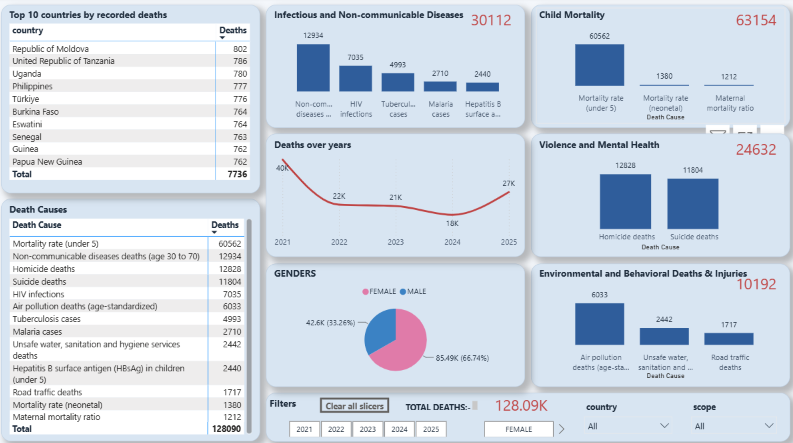

What the dashboard file says about the page in this screenshot:
{"tool":"powerbi","page":{"name":"HOME","canvas":[1280,720],"ordinal":0},"visuals":[{"type":"shape","box":[12,322,412,386],"z":0},{"type":"pivotTable","title":"Death Causes","fields":{"Rows":["A-B-C-D.Death Cause"],"Values":["CountNonNull(A-B-C-D.Death Cause)"]},"box":[20.7,327.7,396.1,373.8],"z":1000},{"type":"shape","box":[12,12,412,300],"z":2000},{"type":"pivotTable","title":"Top 10 countries by recorded deaths","fields":{"Rows":["A-B-C-D.country"],"Values":["CountNonNull(A-B-C-D.Death Cause)"]},"box":[20,18,396,288],"z":3000},{"type":"shape","box":[856,12,412,196],"z":4000},{"type":"clusteredColumnChart","title":"Child Mortality","fields":{"Category":["A-B-C-D.Death Cause"],"Y":["CountNonNull(A-B-C-D.Death Cause)"]},"box":[864,18,396,184],"z":5000},{"type":"shape","box":[856,218,412,196],"z":6000},{"type":"shape","box":[856,424,412,196],"z":7000},{"type":"clusteredColumnChart","title":"Violence and Mental Health","fields":{"Category":["A-B-C-D.Death Cause"],"Y":["CountNonNull(A-B-C-D.Death Cause)"]},"box":[864,224,396,184],"z":8000},{"type":"clusteredColumnChart","title":"Environmental and Behavioral Deaths & Injuries","fields":{"Category":["A-B-C-D.Death Cause"],"Y":["CountNonNull(A-B-C-D.Death Cause)"]},"box":[864,430,396,184],"z":9000},{"type":"shape","box":[434,12,412,196],"z":10000},{"type":"clusteredColumnChart","title":"Infectious and Non-communicable Diseases","fields":{"Category":["A-B-C-D.Death Cause"],"Y":["CountNonNull(A-B-C-D.Death Cause)"]},"box":[442,18,396,184],"z":11000},{"type":"shape","title":"Filters","box":[434,630,834,78],"z":12000},{"type":"slicer","fields":{"Values":["A-B-C-D.Gender"]},"box":[756,668,160,32],"z":13000},{"type":"slicer","fields":{"Values":["A-B-C-D.country"]},"box":[930,638,160,62],"z":14000},{"type":"slicer","fields":{"Values":["A-B-C-D.scope"]},"box":[1100,638,156,62],"z":15000},{"type":"actionButton","box":[520,638,110,24],"z":16000},{"type":"shape","box":[434,424,412,196],"z":17000},{"type":"pieChart","title":"GENDERS","fields":{"Category":["A-B-C-D.Gender"],"Y":["CountNonNull(A-B-C-D.Death Cause)"]},"box":[442,430,396,184],"z":18000},{"type":"shape","box":[434,218,412,196],"z":19000},{"type":"lineChart","title":"Deaths over years","fields":{"Category":["A-B-C-D.year"],"Y":["CountNonNull(A-B-C-D.Death Cause)"]},"box":[442,224,396,184],"z":20000},{"type":"slicer","fields":{"Values":["A-B-C-D.year"]},"box":[446,668,300,32],"z":21000},{"type":"card","title":"Deaths","fields":{"Values":["CountNonNull(A-B-C-D.Death Cause)"]},"box":[775,634,130,32],"z":22000},{"type":"textbox","box":[650,638,125,24],"z":23000},{"type":"card","title":"Environmental and Behavioral Deaths & Injuries","fields":{"Values":["CountNonNull(A-B-C-D.Death Cause)"]},"box":[1167.5,440.6,92.3,33.4],"z":24000},{"type":"card","title":"Violence and Mental Health","fields":{"Values":["CountNonNull(A-B-C-D.Death Cause)"]},"box":[1168,226,92,34],"z":25000},{"type":"card","title":"Child Mortality","fields":{"Values":["CountNonNull(A-B-C-D.Death Cause)"]},"box":[1168,20,92,34],"z":26000},{"type":"card","title":"Infectious and Non-communicable Diseases","fields":{"Values":["CountNonNull(A-B-C-D.Death Cause)"]},"box":[746,20,92,34],"z":27000}]}

Visuals, with their boxes in screenshot pixels (x1, y1, x2, y2), scaled from the page's 1280x720 canvas onto the 793x443 screenshot:
shape: [x1=7, y1=198, x2=263, y2=436]
"Death Causes" pivotTable: [x1=13, y1=202, x2=258, y2=432]
shape: [x1=7, y1=7, x2=263, y2=192]
"Top 10 countries by recorded deaths" pivotTable: [x1=12, y1=11, x2=258, y2=188]
shape: [x1=530, y1=7, x2=786, y2=128]
"Child Mortality" clusteredColumnChart: [x1=535, y1=11, x2=781, y2=124]
shape: [x1=530, y1=134, x2=786, y2=255]
shape: [x1=530, y1=261, x2=786, y2=381]
"Violence and Mental Health" clusteredColumnChart: [x1=535, y1=138, x2=781, y2=251]
"Environmental and Behavioral Deaths & Injuries" clusteredColumnChart: [x1=535, y1=265, x2=781, y2=378]
shape: [x1=269, y1=7, x2=524, y2=128]
"Infectious and Non-communicable Diseases" clusteredColumnChart: [x1=274, y1=11, x2=519, y2=124]
"Filters" shape: [x1=269, y1=388, x2=786, y2=436]
slicer - A-B-C-D.Gender: [x1=468, y1=411, x2=567, y2=431]
slicer - A-B-C-D.country: [x1=576, y1=393, x2=675, y2=431]
slicer - A-B-C-D.scope: [x1=681, y1=393, x2=778, y2=431]
actionButton: [x1=322, y1=393, x2=390, y2=407]
shape: [x1=269, y1=261, x2=524, y2=381]
"GENDERS" pieChart: [x1=274, y1=265, x2=519, y2=378]
shape: [x1=269, y1=134, x2=524, y2=255]
"Deaths over years" lineChart: [x1=274, y1=138, x2=519, y2=251]
slicer - A-B-C-D.year: [x1=276, y1=411, x2=462, y2=431]
"Deaths" card: [x1=480, y1=390, x2=561, y2=410]
textbox: [x1=403, y1=393, x2=480, y2=407]
"Environmental and Behavioral Deaths & Injuries" card: [x1=723, y1=271, x2=780, y2=292]
"Violence and Mental Health" card: [x1=724, y1=139, x2=781, y2=160]
"Child Mortality" card: [x1=724, y1=12, x2=781, y2=33]
"Infectious and Non-communicable Diseases" card: [x1=462, y1=12, x2=519, y2=33]
